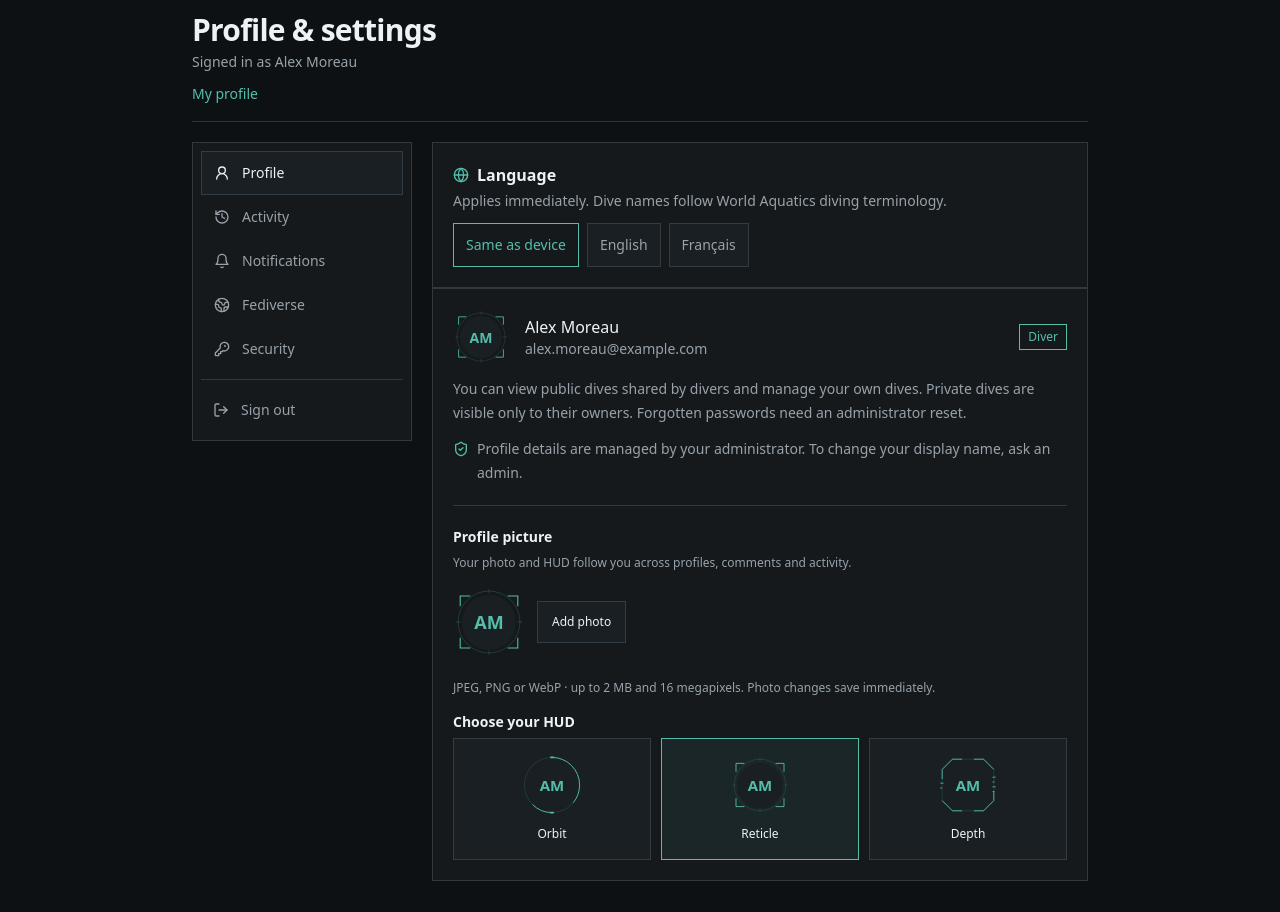
Test: Account activity section › lists received activity with profile and clip links
Click the button "Activity" at x=302, y=217, box 201,195 -> 403,239
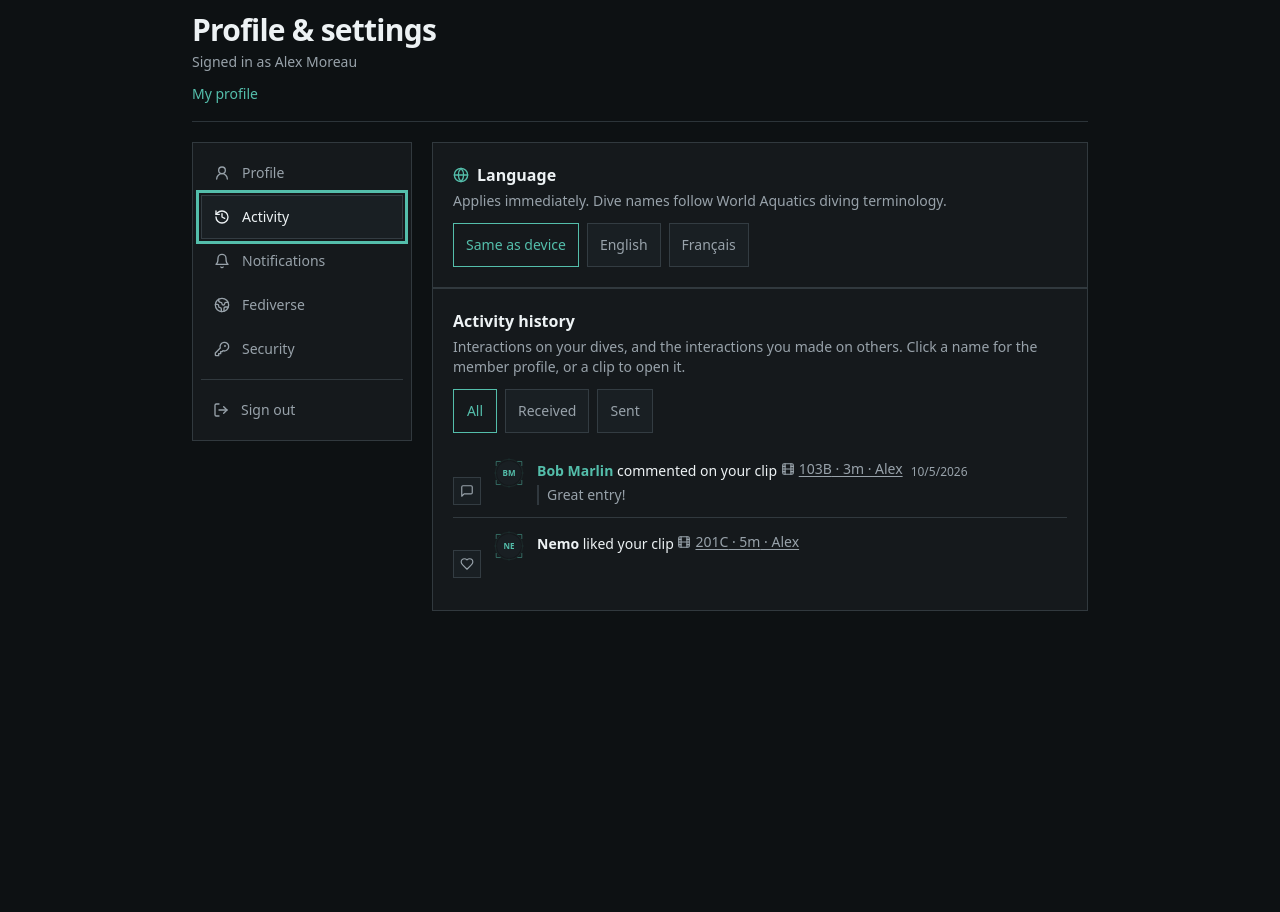
Check: the link "Bob Marlin" is shown, box 537,461 -> 613,480
